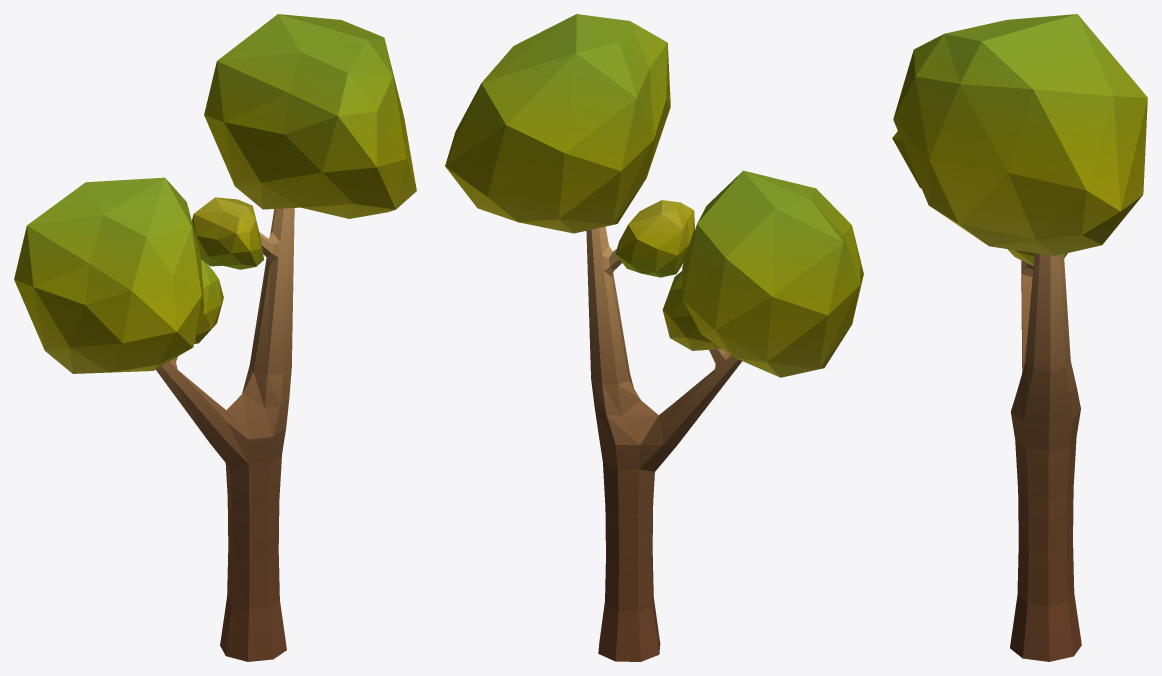
Rendered from Forest_Plant_009.FBX.
3 renders of one model, left to right at view 1: azimuth 30°, elevation 25°; view 2: azimuth 150°, elevation 25°; view 3: azimuth 270°, elevation 25°, orthographic. The views are drawn at different scales.
Visible parts, largest first — view 1: Forest_Plant_009; view 2: Forest_Plant_009; view 3: Forest_Plant_009.
Part boxes in pixels (box(x1,y1,x2,y2)): Forest_Plant_009: box(14, 14, 416, 661); Forest_Plant_009: box(445, 14, 863, 661); Forest_Plant_009: box(892, 14, 1147, 661).
Bounding box in the file's own units: 1137 × 1718 × 609.
1 material, 1 textured.
